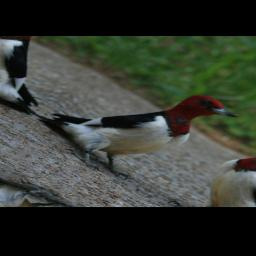Woodpecker: (17, 53, 247, 191)
